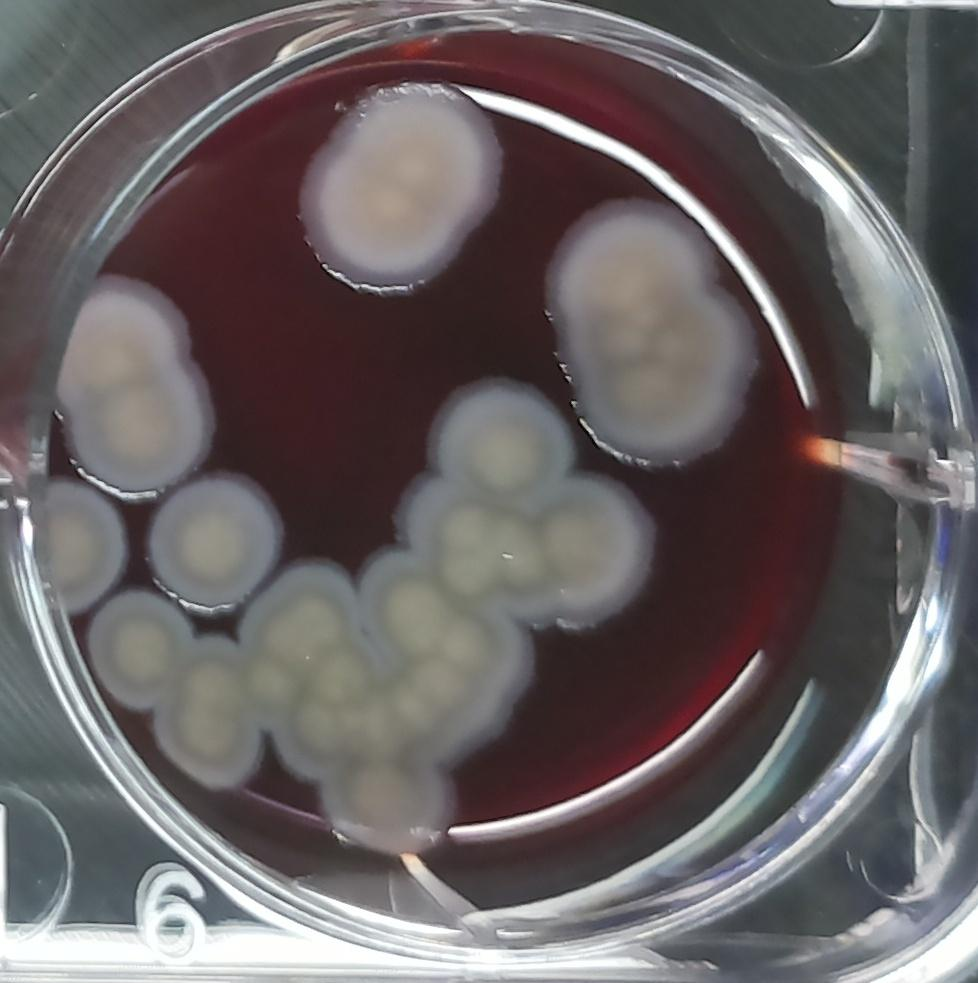bcereus: (540, 191, 769, 473), (296, 78, 507, 306), (31, 268, 215, 498), (356, 537, 544, 745), (255, 557, 358, 788), (534, 467, 663, 639), (141, 468, 286, 621), (427, 375, 573, 516), (149, 631, 264, 803), (24, 470, 134, 621), (321, 747, 466, 853), (84, 584, 199, 705)
